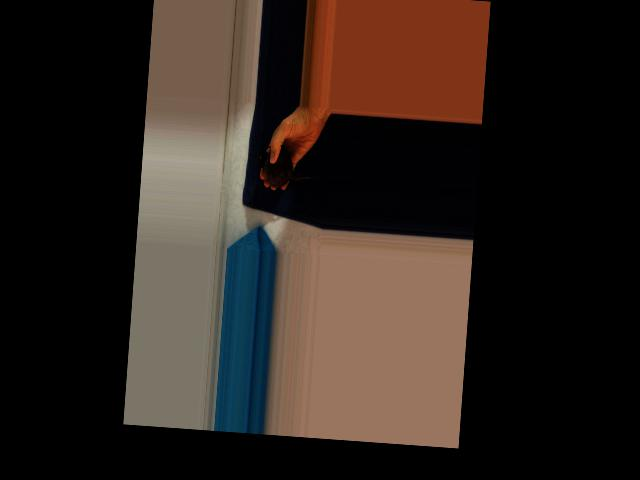beet: (257, 145, 317, 190)
